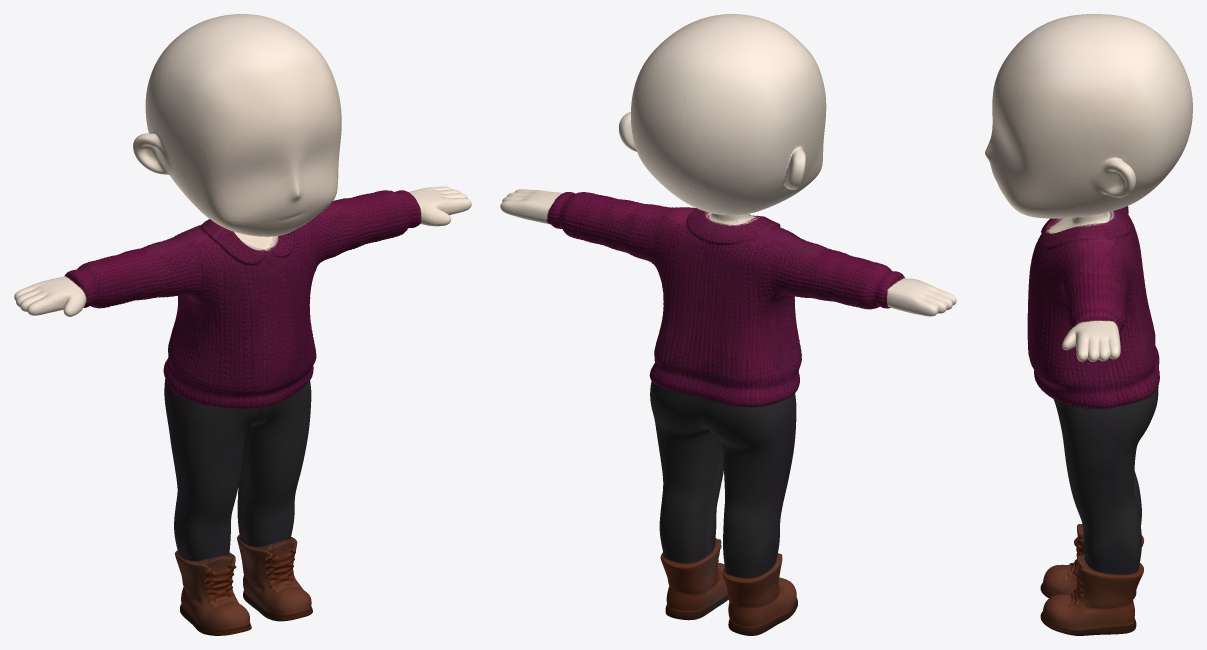
Rendered from baked_noutfit_burgundy.glb.
3 renders of one model, left to right at view 1: azimuth 30°, elevation 25°; view 2: azimuth 150°, elevation 25°; view 3: azimuth 270°, elevation 25°, orthographic.
Bounding box in the file's own units: 1.51 × 1.9 × 0.6102.
1 material, 1 textured.
